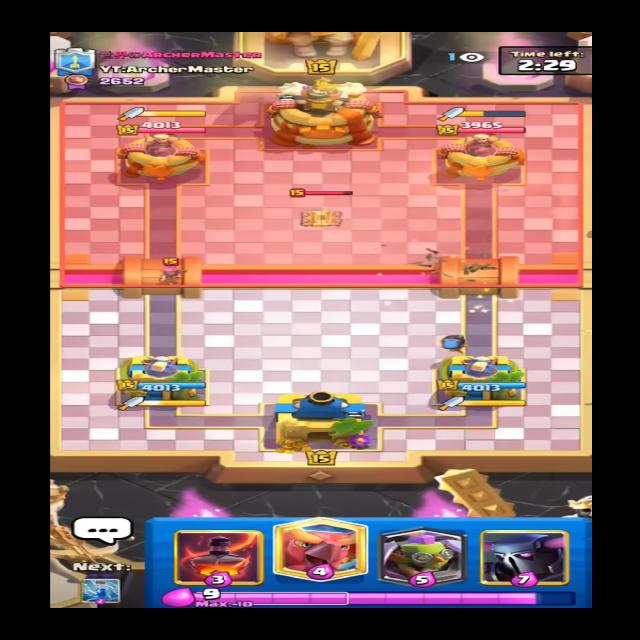Archer: (146, 258, 191, 284)
Teslahidden: (281, 182, 362, 228)
